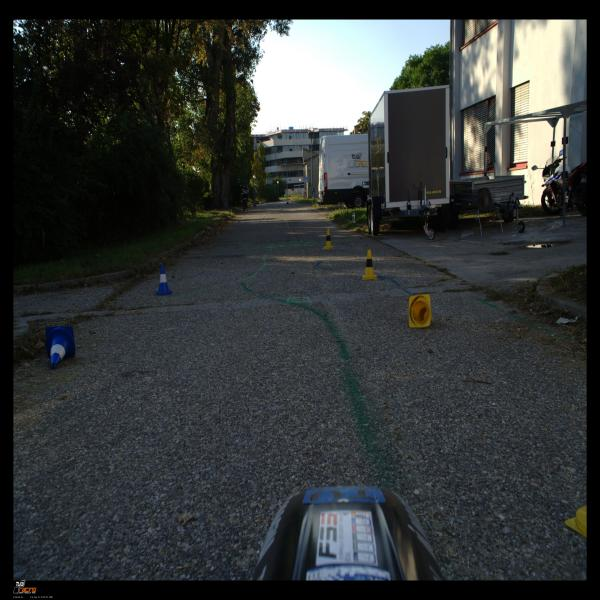blue_cone: (46, 326, 75, 369), (155, 264, 172, 296)
yellow_cone: (409, 294, 432, 328), (362, 250, 377, 280), (322, 229, 334, 249)
